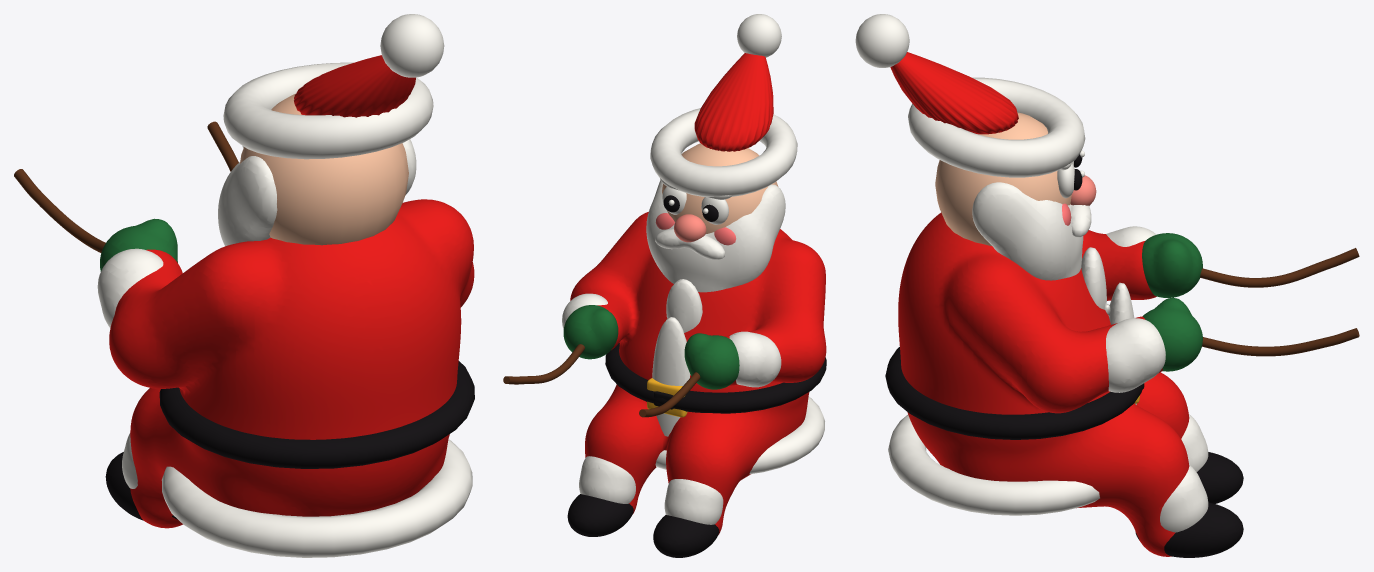
The model's file is santa.glb.
3 views of the same model, side by side, from view 1: azimuth 30°, elevation 25°; view 2: azimuth 150°, elevation 25°; view 3: azimuth 270°, elevation 25° (orthographic). The views are drawn at different scales.
Visible parts, largest first — view 1: SantaBody, SantaHem, SantaHead, SantaHatBand, SantaBelt, SantaHat, SantaBeard, SantaPompom, SantaTrim, SantaMitts, Rein, SantaBoots (+1 smaller); view 2: SantaBody, SantaTrim, SantaBeard, SantaHatBand, SantaHat, SantaMitts, SantaBelt, SantaBoots, SantaHead, SantaHem, SantaPompom, SantaMoustache (+5 smaller); view 3: SantaBody, SantaHatBand, SantaTrim, SantaHem, SantaBeard, SantaBelt, SantaHat, SantaMitts, SantaHead, SantaBoots, SantaPompom, Rein (+1 smaller).
Part boxes in pixels (<box>): SantaBody: <box>109,199,474,528</box>; SantaHem: <box>161,439,472,557</box>; SantaHead: <box>240,93,408,245</box>; SantaHatBand: <box>223,62,433,159</box>; SantaBelt: <box>159,361,474,468</box>; SantaHat: <box>294,55,415,117</box>; SantaBeard: <box>218,139,416,246</box>; SantaPompom: <box>380,14,444,77</box>; SantaTrim: <box>97,248,163,488</box>; SantaMitts: <box>100,218,177,271</box>; Rein: <box>14,169,105,252</box>; SantaBoots: <box>105,452,177,520</box>; SantaBody: <box>570,212,826,534</box>; SantaTrim: <box>562,279,781,524</box>; SantaBeard: <box>646,180,785,292</box>; SantaHatBand: <box>650,108,797,197</box>; SantaHat: <box>694,53,773,151</box>; SantaMitts: <box>563,305,739,389</box>; SantaBelt: <box>605,343,826,413</box>; SantaBoots: <box>567,494,719,557</box>; SantaHead: <box>662,143,778,233</box>; SantaHem: <box>655,397,824,474</box>; SantaPompom: <box>737,14,781,57</box>; SantaMoustache: <box>655,229,725,259</box>; SantaBody: <box>898,212,1189,556</box>; SantaHatBand: <box>908,77,1085,177</box>; SantaTrim: <box>1081,226,1208,532</box>; SantaHem: <box>888,414,1099,515</box>; SantaBeard: <box>972,182,1083,280</box>; SantaBelt: <box>885,347,1144,439</box>; SantaHat: <box>890,52,1018,134</box>; SantaMitts: <box>1142,233,1202,371</box>; SantaHead: <box>935,112,1071,245</box>; SantaBoots: <box>1135,452,1243,557</box>; SantaPompom: <box>855,14,909,67</box>; Rein: <box>1200,248,1359,287</box>.
Bounding box in the file's own units: 1.27 × 2.11 × 1.86.
